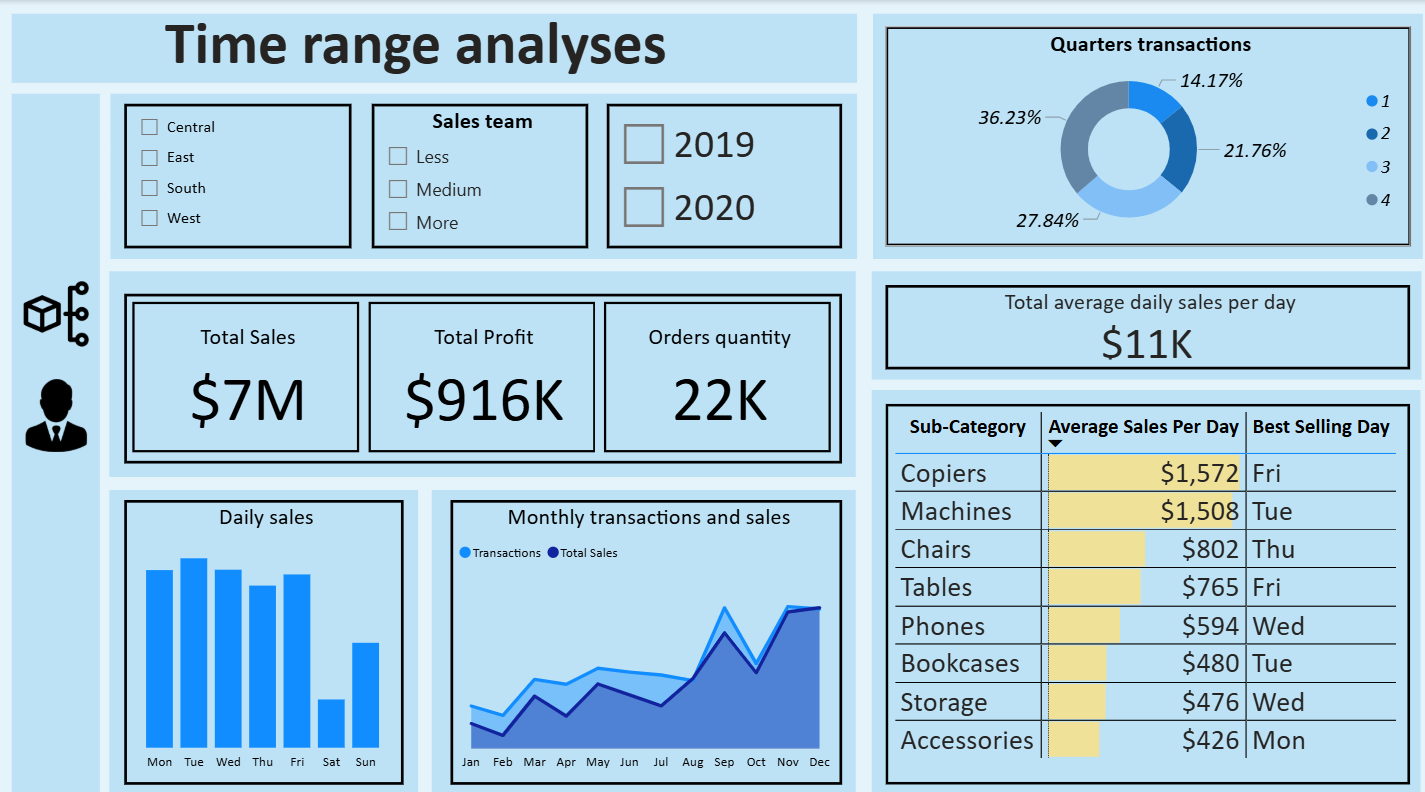

This screenshot's page, from the dashboard's own definition file:
{"tool":"powerbi","page":{"name":"Time range analysis ","canvas":[1280,720],"ordinal":0},"visuals":[{"type":"shape","box":[778.3,347.5,488.7,359.6],"z":0},{"type":"tableEx","fields":{"Values":["Products.Sub-Category","Dashboard Measures.Average Sales Per Day","Dashboard Measures.Best Selling Day"]},"box":[790.3,359.6,467,339.1],"z":1000},{"type":"shape","box":[778.3,241.3,489.9,96.5],"z":2000},{"type":"card","title":"Total average daily sales per day","fields":{"Values":["Dashboard Measures.Total Average Daily Sales Per Day"]},"box":[790.3,253.4,467,74.8],"z":3000},{"type":"shape","box":[779.5,12.1,489.9,218.4],"z":4000},{"type":"donutChart","title":"Quarters transactions","fields":{"Category":["Date.Quarter"],"Y":["Dashboard Measures.Transactions"]},"box":[789.9,23.3,468,195.9],"z":5000},{"type":"shape","box":[386.1,436.8,377.7,270.3],"z":6000},{"type":"areaChart","title":"Monthly transactions and sales","fields":{"Category":["Date.Month"],"Y2":["Dashboard Measures.Total Sales"],"Y":["Dashboard Measures.Transactions"]},"box":[403,445.3,348.7,253.4],"z":7000},{"type":"shape","box":[12.1,83.3,78.4,623.8],"z":8000},{"type":"shape","box":[98.9,436.8,275.1,270.3],"z":9000},{"type":"columnChart","title":"Daily sales","fields":{"Category":["Date.Day"],"Y":["Dashboard Measures.Total Sales"]},"box":[112.2,445.3,248.6,253.4],"z":10000},{"type":"shape","box":[98.9,241.3,664.9,183.4],"z":11000},{"type":"cardVisual","fields":{"Data":["Dashboard Measures.Total Sales","Dashboard Measures.Total Profit","Dashboard Measures.Orders quantity"]},"box":[112.2,261.8,639.5,150.8],"z":12000},{"type":"shape","box":[100.2,83.3,664.9,147.2],"z":13000},{"type":"slicer","title":"Sales team","fields":{"Values":["Sales.Sales team"]},"box":[333,92.9,193.1,129.1],"z":14000},{"type":"slicer","title":"Y","fields":{"Values":["Date.Year"]},"box":[541.8,92.9,210,129.1],"z":15000},{"type":"slicer","fields":{"Values":["Sales.Region"]},"box":[112.2,92.9,202.7,129.1],"z":16000},{"type":"shape","box":[12.1,12.1,752.9,61.5],"z":17000},{"type":"textbox","box":[143.6,1.2,518.9,82.1],"z":18000},{"type":"image","box":[12.3,241.6,78.5,76],"z":19000},{"type":"actionButton","box":[11.1,242.2,81.1,74.4],"z":20000},{"type":"image","box":[10.9,333,80.8,74.8],"z":21000},{"type":"actionButton","box":[10.9,332.7,80.9,74.5],"z":24000}]}

Visuals, with their boxes in screenshot pixels (x1, y1, x2, y2), scaled from the page's 1280x720 canvas onto the 1425x792 screenshot:
shape: <box>866,382,1411,778</box>
tableEx - Products.Sub-Category x Dashboard Measures.Average Sales Per Day: <box>880,396,1400,769</box>
shape: <box>866,265,1412,372</box>
"Total average daily sales per day" card: <box>880,279,1400,361</box>
shape: <box>868,13,1413,254</box>
"Quarters transactions" donutChart: <box>879,26,1400,241</box>
shape: <box>430,480,850,778</box>
"Monthly transactions and sales" areaChart: <box>449,490,837,769</box>
shape: <box>13,92,101,778</box>
shape: <box>110,480,416,778</box>
"Daily sales" columnChart: <box>125,490,402,769</box>
shape: <box>110,265,850,467</box>
cardVisual - Dashboard Measures.Total Sales x Dashboard Measures.Total Profit: <box>125,288,837,454</box>
shape: <box>112,92,852,254</box>
"Sales team" slicer: <box>371,102,586,244</box>
"Y" slicer: <box>603,102,837,244</box>
slicer - Sales.Region: <box>125,102,351,244</box>
shape: <box>13,13,852,81</box>
textbox: <box>160,1,738,92</box>
image: <box>14,266,101,349</box>
actionButton: <box>12,266,103,348</box>
image: <box>12,366,102,449</box>
actionButton: <box>12,366,102,448</box>
